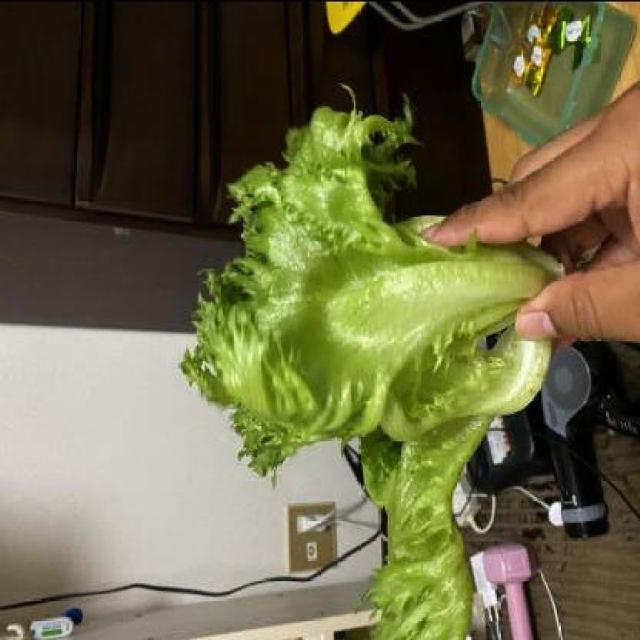Lettuce: (182, 90, 569, 640)
